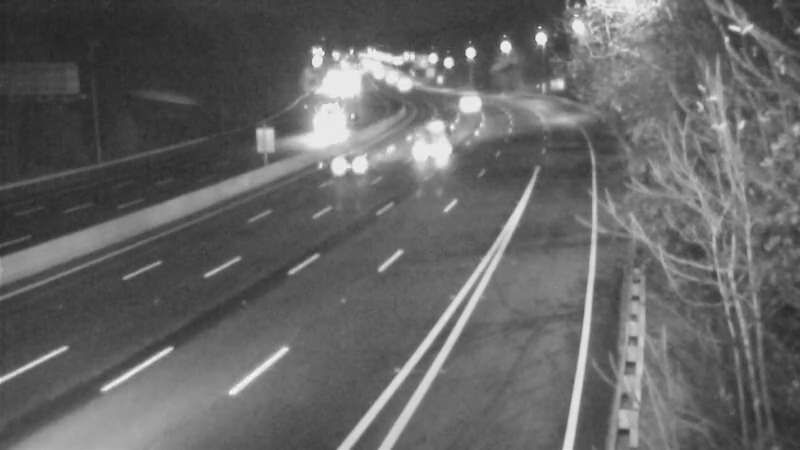vehicle: (319, 118, 399, 198), (444, 80, 494, 130), (432, 97, 482, 147), (299, 107, 349, 157)
